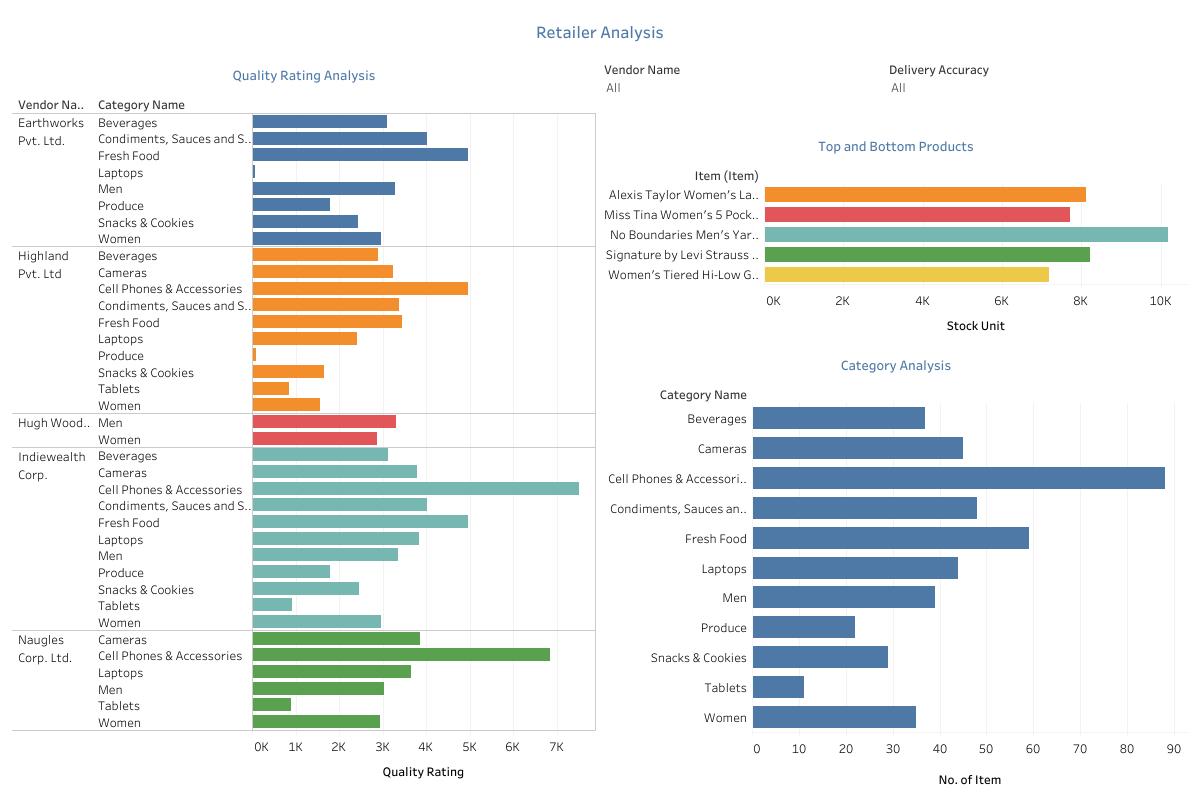

The page's visual inventory and layout, read from the dashboard file:
{"tool":"tableau","page":{"name":"Retailer Analysis Dashboard","canvas":[1200,800],"ordinal":1},"visuals":[{"type":"title","box":[8,8,1184,46.8]},{"type":"worksheet","title":"Quality Rating Analysis","mark":"Automatic","rows":["Vendor_Name","CATEGORY_NAME"],"cols":["Quality_Rating"],"box":[8,54.8,592,737.2]},{"type":"filter","title":"Quality Rating Analysis","param":"[federated.1em3t7a0oqc0ow114s1zp05p9p2s].[none:Vendor_Name:nk]","box":[600,54.8,285.3,71.7]},{"type":"filter","title":"Quality Rating Analysis","param":"[federated.1em3t7a0oqc0ow114s1zp05p9p2s].[none:Delivery_Accuracy:nk]","box":[885.3,54.8,306.7,71.7]},{"type":"worksheet","title":"Top and Bottom Products","mark":"Automatic","rows":["ITEM"],"cols":["Stock_Unit"],"box":[600,126.5,592,216]},{"type":"worksheet","title":"Category Analysis 2","mark":"Automatic","rows":["CATEGORY_NAME"],"cols":["Item_DE25205566D64A3B93EA1952626E9610"],"box":[600,342.5,592,449.5]}]}

Visuals, with their boxes in screenshot pixels (x1, y1, x2, y2), scaled from the page's 1200x800 canvas onto the 1199x799 screenshot:
title: [8,8,1191,55]
"Quality Rating Analysis" worksheet: [8,55,600,791]
"Quality Rating Analysis" filter: [600,55,885,126]
"Quality Rating Analysis" filter: [885,55,1191,126]
"Top and Bottom Products" worksheet: [600,126,1191,342]
"Category Analysis 2" worksheet: [600,342,1191,791]
